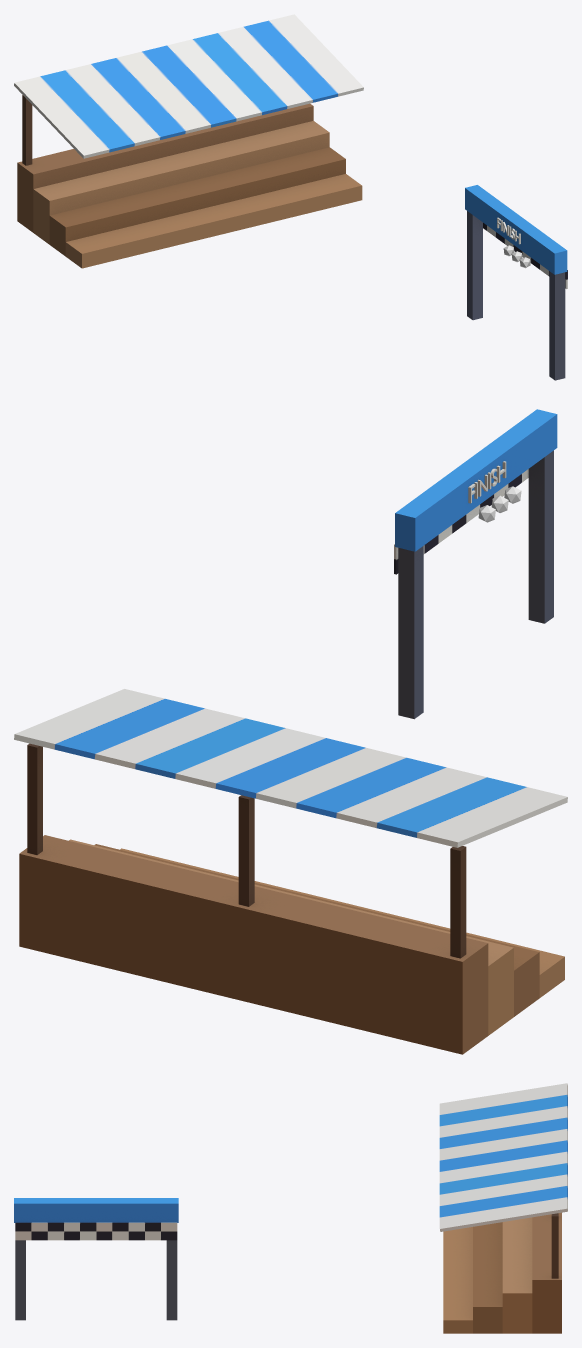
The model's file is area_track_4_5.fbx.
3 views of the same model, one above another, from view 1: azimuth 30°, elevation 25°; view 2: azimuth 150°, elevation 25°; view 3: azimuth 270°, elevation 25° (orthographic). The views are drawn at different scales.
Parts seen in each view (by area): view 1: area_track_4_5_body; view 2: area_track_4_5_body; view 3: area_track_4_5_body.
Part boxes in pixels (x1,y1,x2,y2): area_track_4_5_body: (14, 14, 567, 380); area_track_4_5_body: (14, 409, 567, 1054); area_track_4_5_body: (14, 1083, 567, 1333).
Size of the model in its own units: 5500 by 2558 by 10262.
2 materials, 1 textured.
